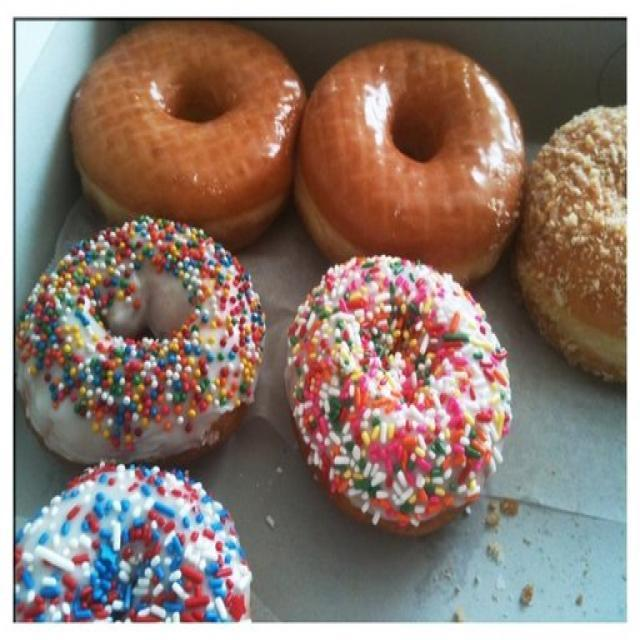Donuts: (17, 19, 633, 640)
